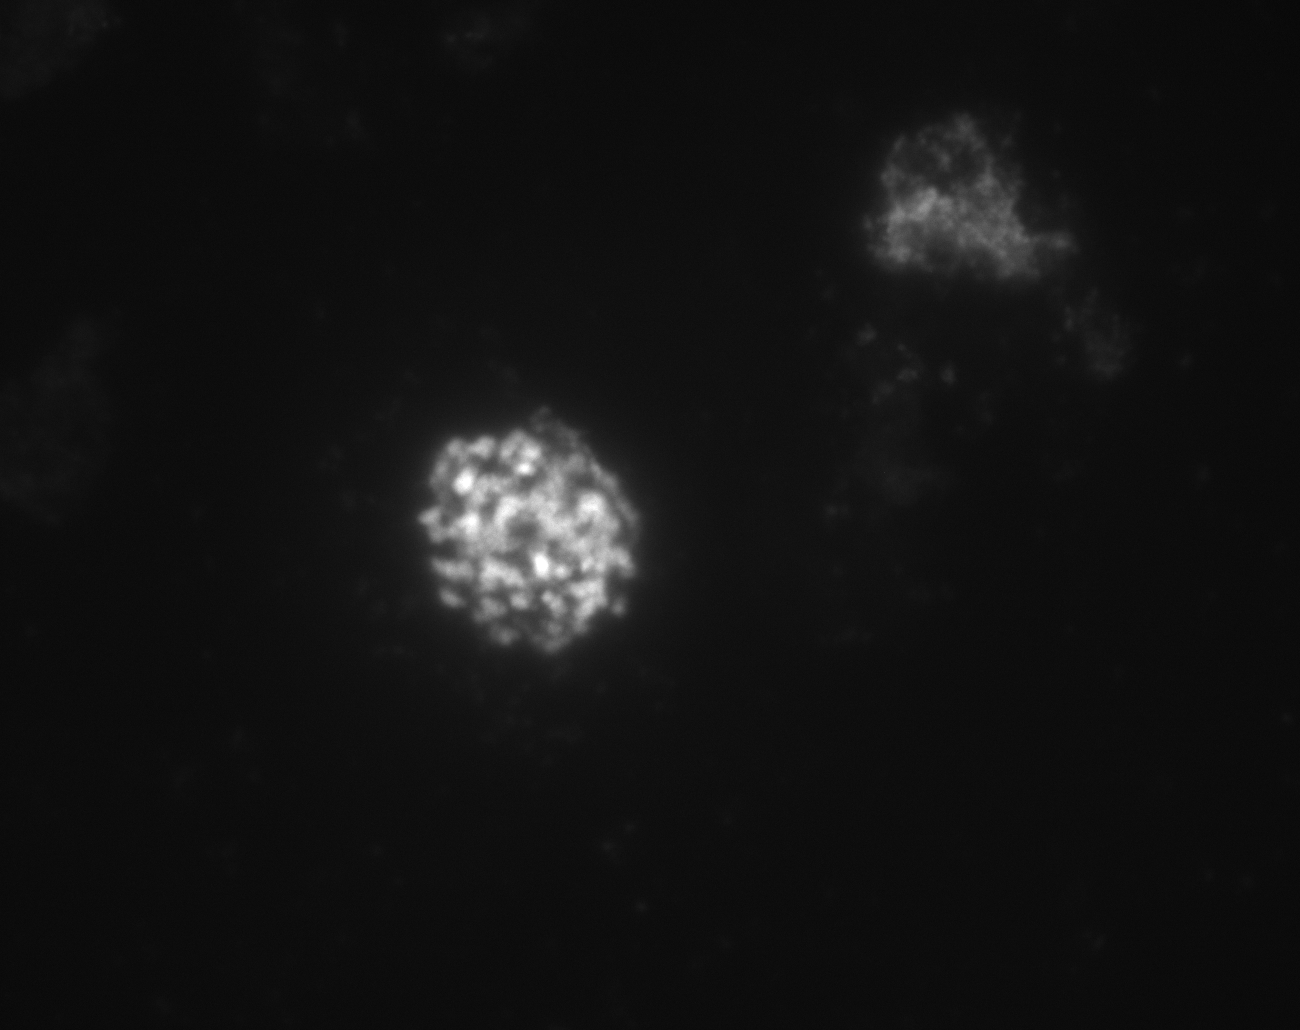Chromosomes: (366, 371, 686, 687)
Others: (788, 56, 1134, 333)
